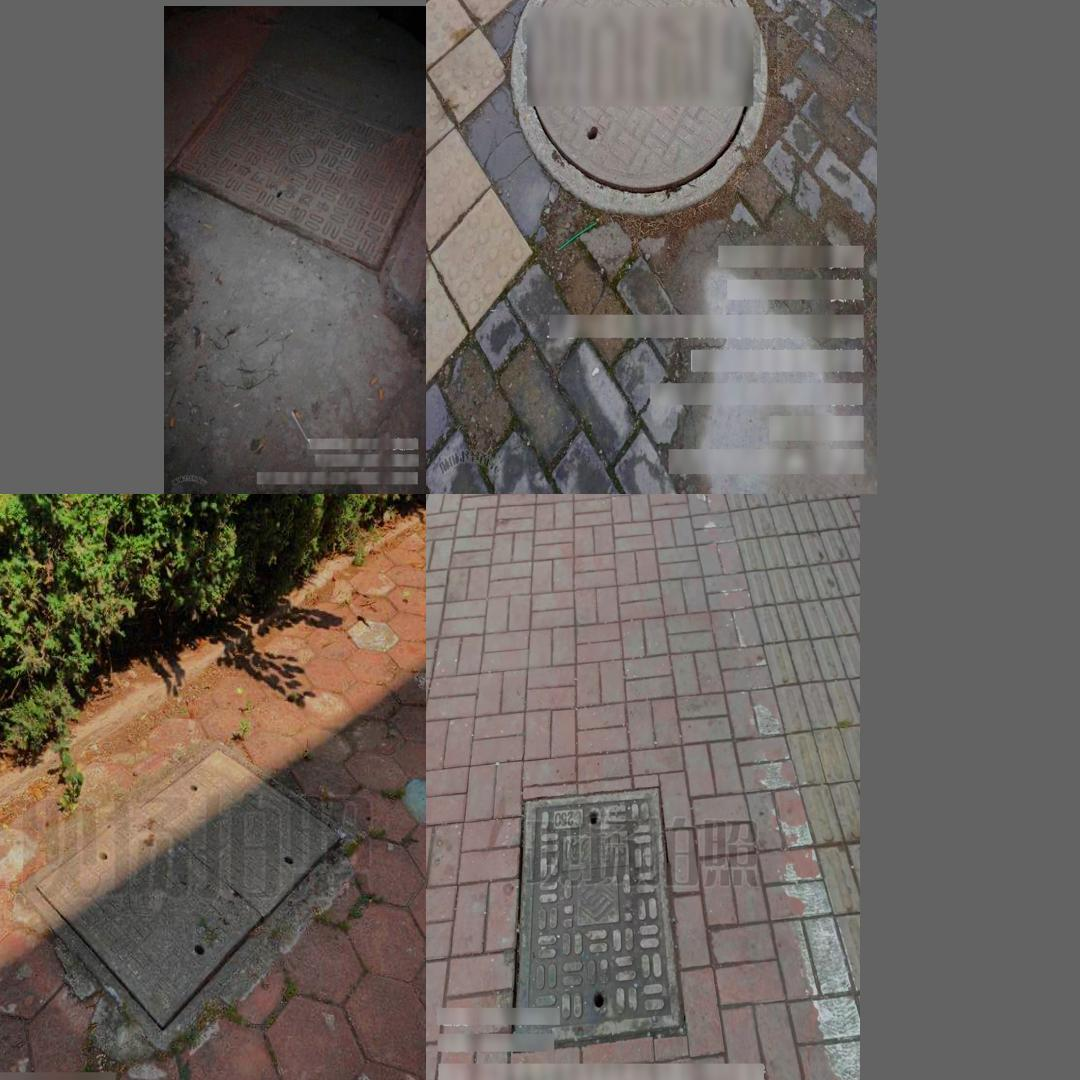good: (17, 740, 358, 1054), (510, 0, 769, 217), (164, 67, 425, 277), (509, 787, 685, 1054)
